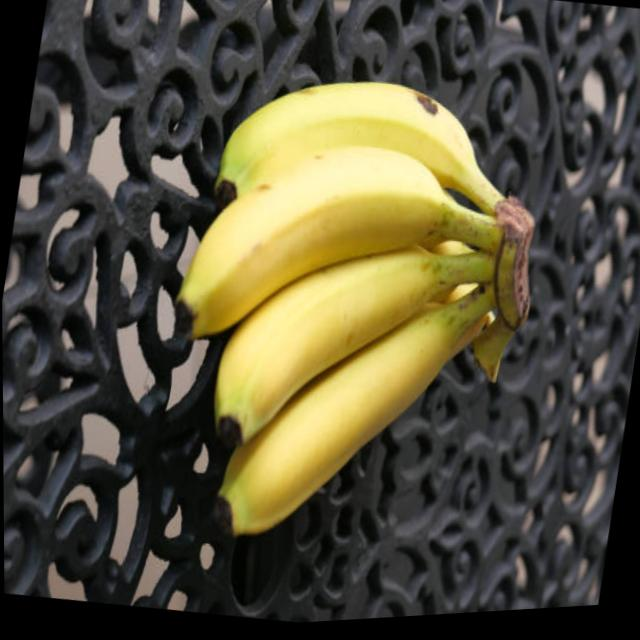BANANA: (133, 37, 578, 597)
